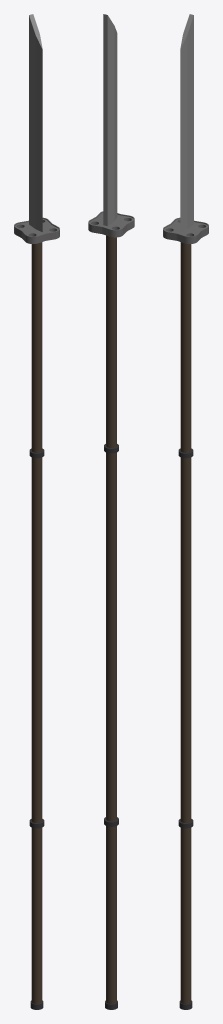
3 views of the same model, side by side, from view 1: azimuth 30°, elevation 25°; view 2: azimuth 150°, elevation 25°; view 3: azimuth 330°, elevation 25° (orthographic).
Visible parts, largest first — view 1: wood, blade, guard; view 2: wood, blade, guard; view 3: wood, blade, guard.
Boxes of the visible parts, x1,y1,x2,y2 form: wood: (31,242,42,1004); blade: (29,14,42,231); guard: (14,217,59,243); wood: (106,235,116,1003); blade: (103,14,117,226); guard: (88,211,134,237); wood: (180,242,191,1004); blade: (180,14,193,231); guard: (163,217,208,243).
Bounding box in the file's own units: 0.0769 × 2.2 × 0.077.
